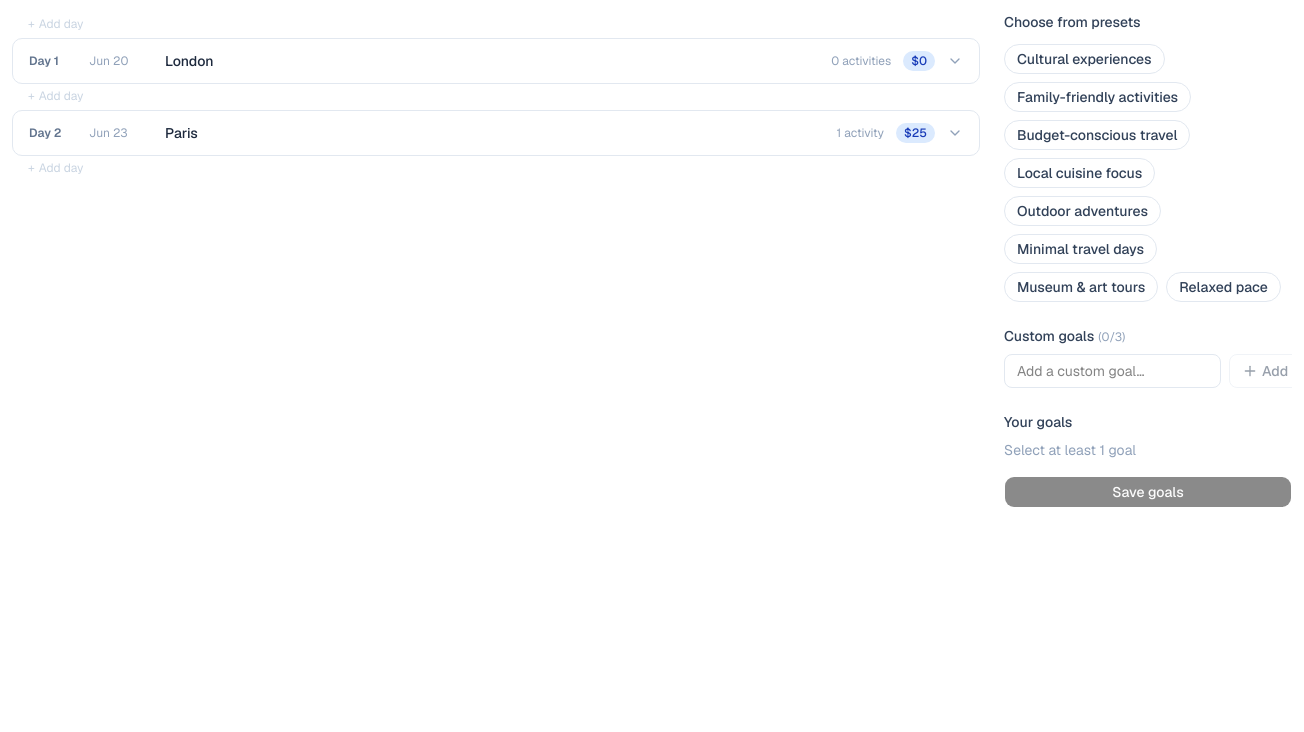
Test: shows Remove button when a day card is expanded
Expected: the text "London" is shown, [165,52,214,70]
Step 1. Click the text "Paris" → (181, 133), box [165,124,198,142]
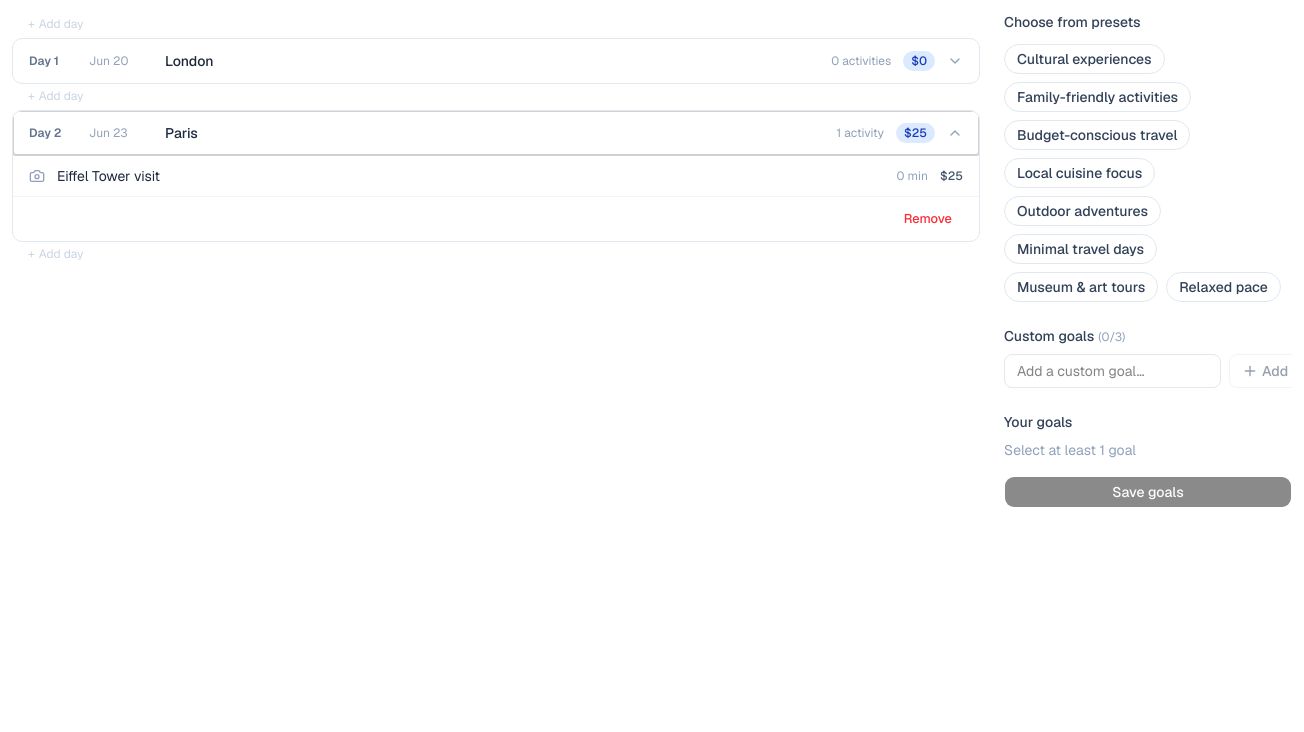
Now the button "Remove" is shown, box [893,205,963,233]
